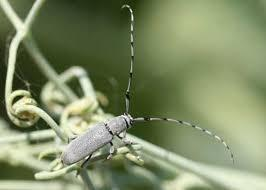insect: (52, 0, 237, 179)
